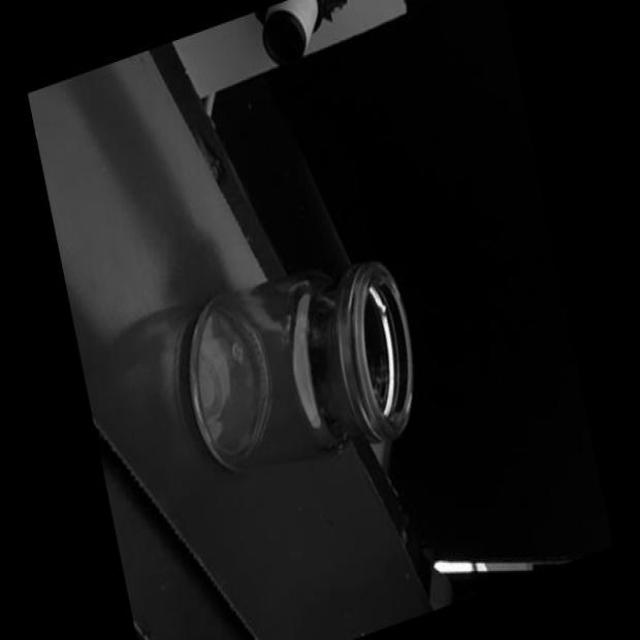defect: (374, 299, 388, 327)
glass: (163, 225, 432, 512)
